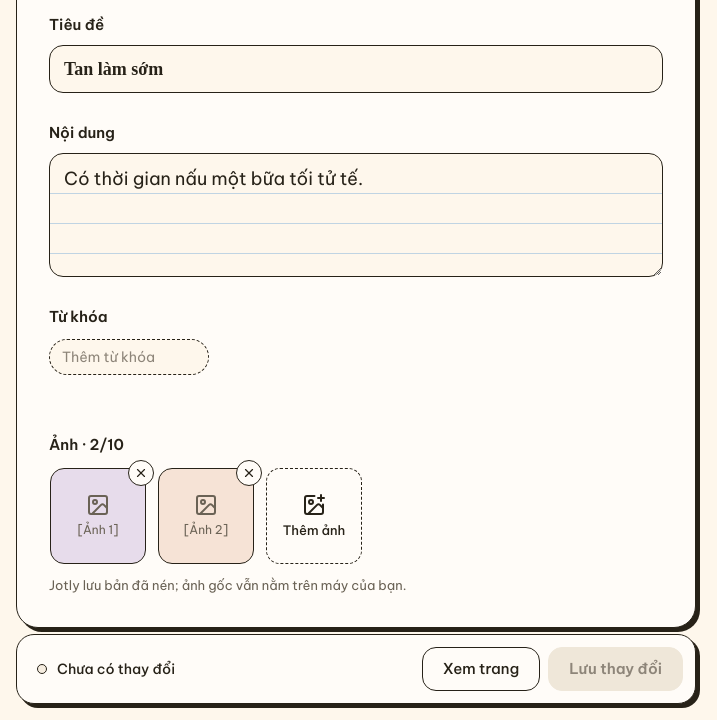
Test case: Sửa một trang cũ › bỏ một ảnh rồi Lưu: xóa ảnh trên máy chủ và chốt thứ tự ảnh còn lại
(page scrolled)
Click the button named "Bỏ ảnh [Ảnh 1]": (141,473) [128,460,154,486]
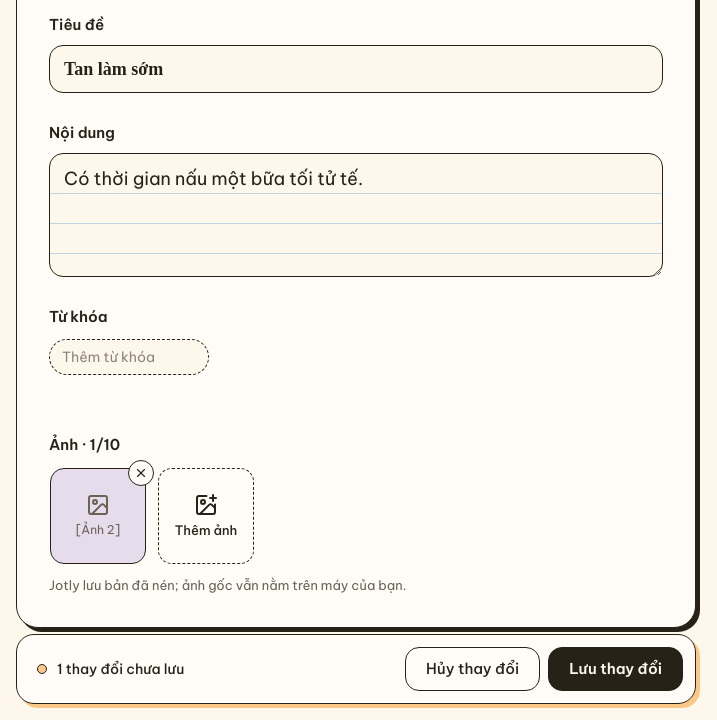
Click the button "Lưu thay đổi": (616,669) [548,647,683,691]
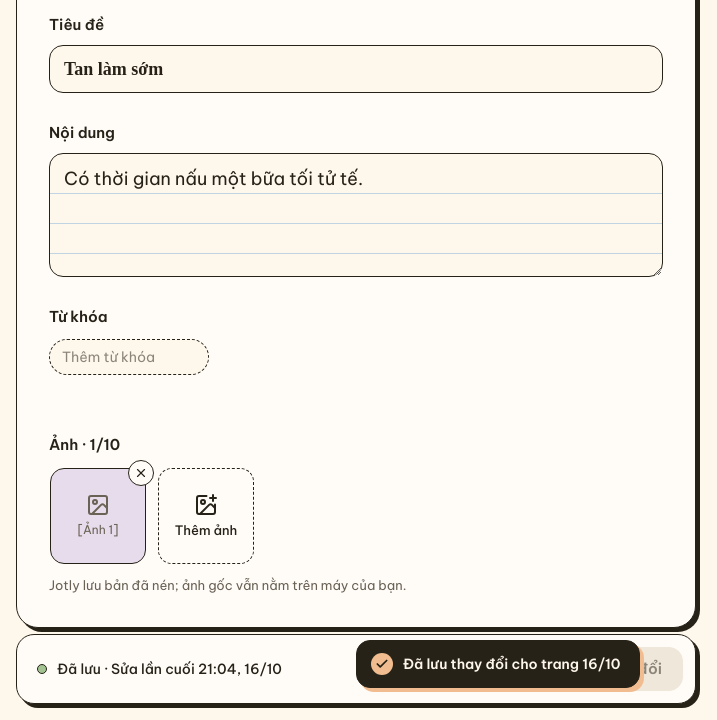
Result: the text "1/10" is shown at [90,435,120,454]
Result: the text "Đã lưu thay đổi cho trang 16/10" is shown at [356,640,640,688]
